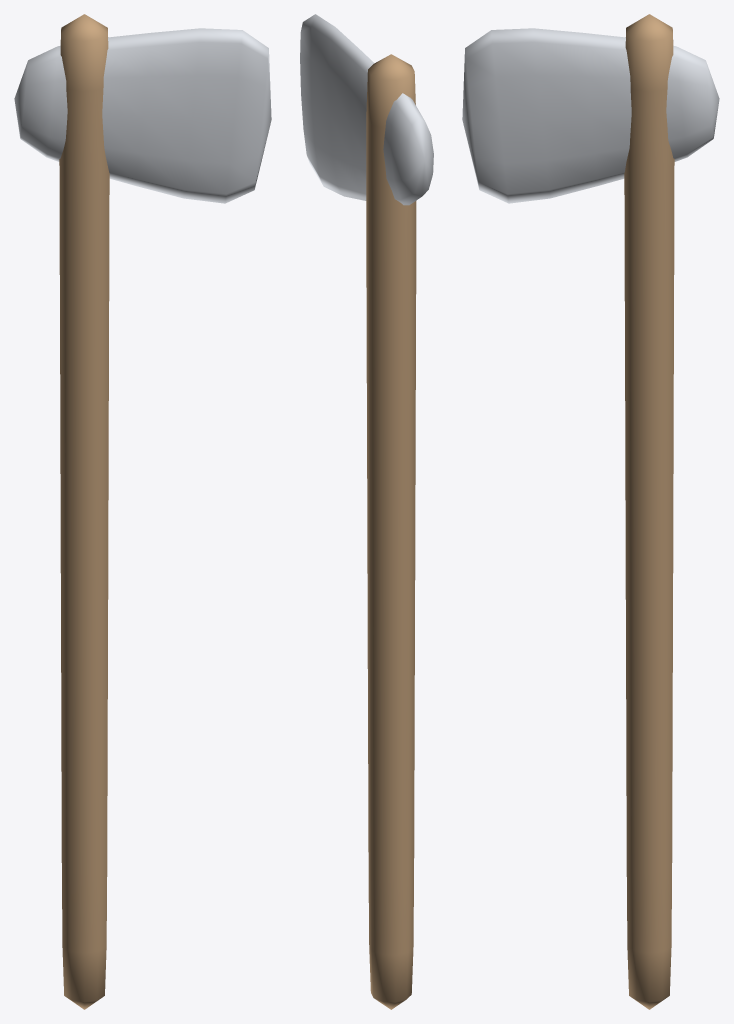
Rendered from lumberjack_axe.glb.
3 renders of one model, left to right at view 1: azimuth 90°, elevation 25°; view 2: azimuth 210°, elevation 25°; view 3: azimuth 270°, elevation 25°, orthographic. The views are drawn at different scales.
Visible parts, largest first — view 1: lumberjack_axe; view 2: lumberjack_axe; view 3: lumberjack_axe.
Boxes of the visible parts, <box> form: lumberjack_axe: <box>14,14,271,1009</box>; lumberjack_axe: <box>300,14,433,1009</box>; lumberjack_axe: <box>462,14,719,1009</box>.
Size of the model in its own units: 0.0451 by 0.94 by 0.22.
